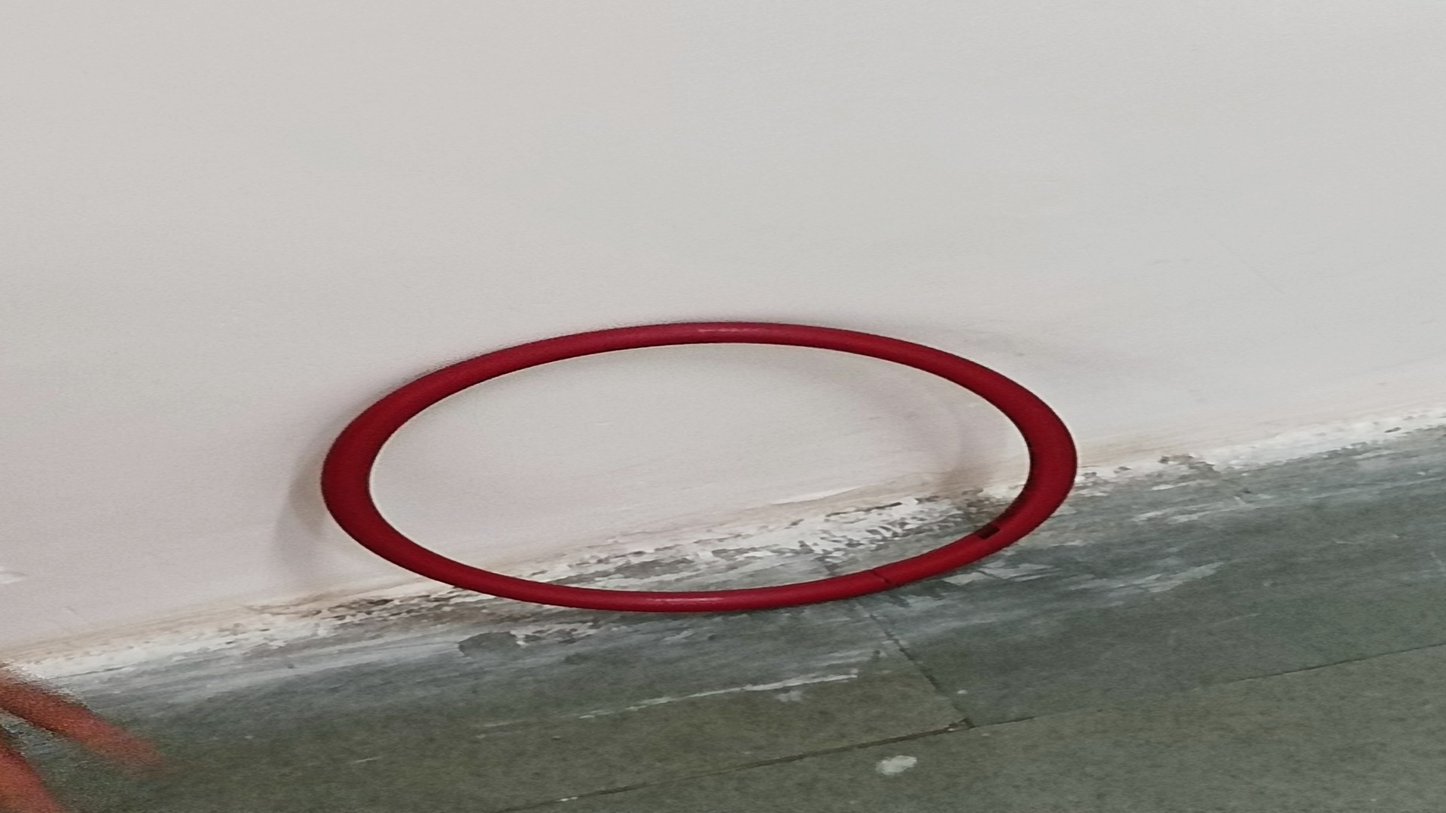Red ring: (322, 327, 1078, 614)
